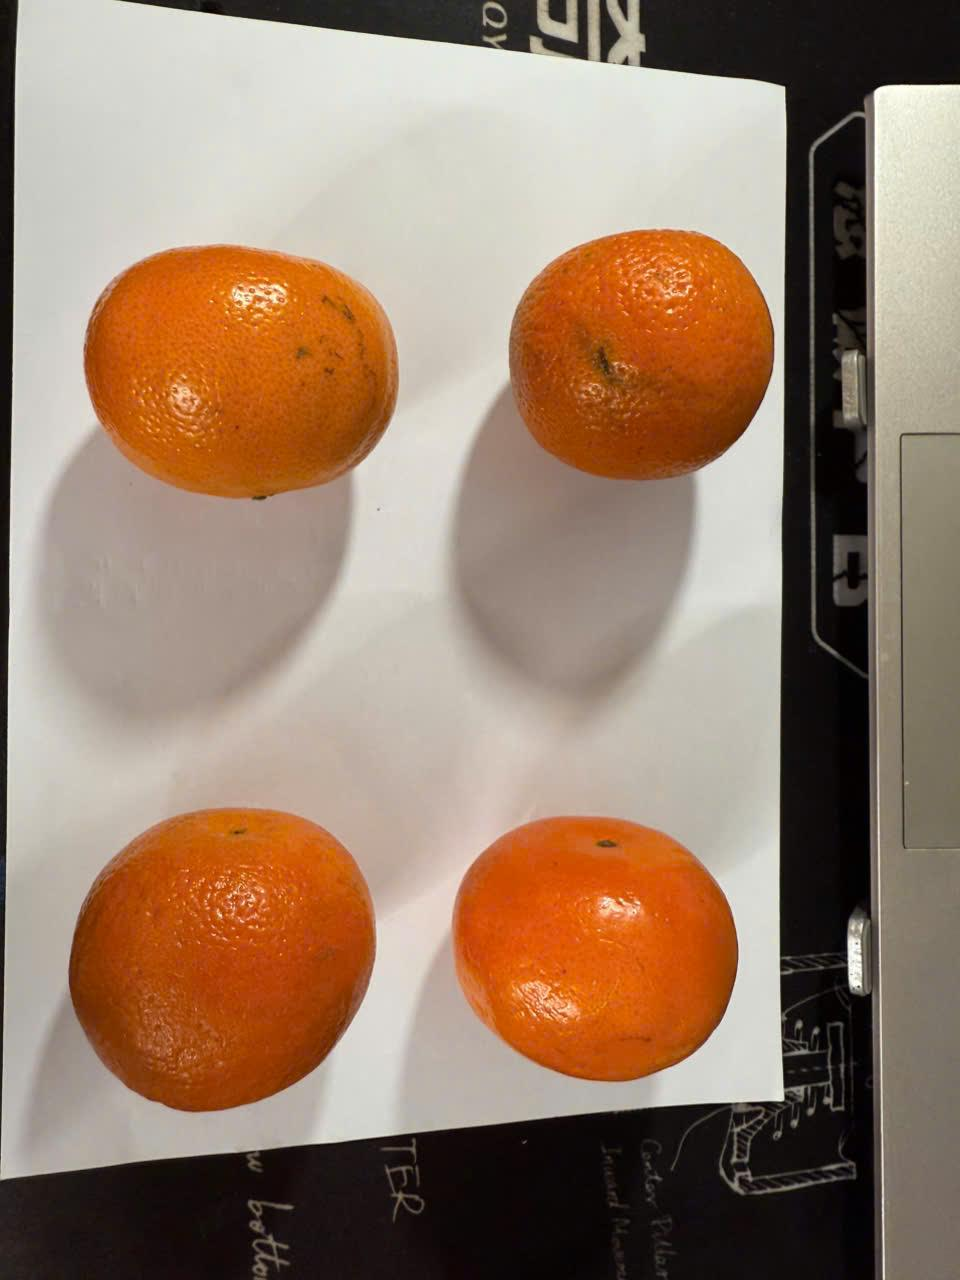orange: (70, 798, 384, 1126), (58, 243, 426, 522), (435, 788, 758, 1094), (488, 203, 792, 494)
